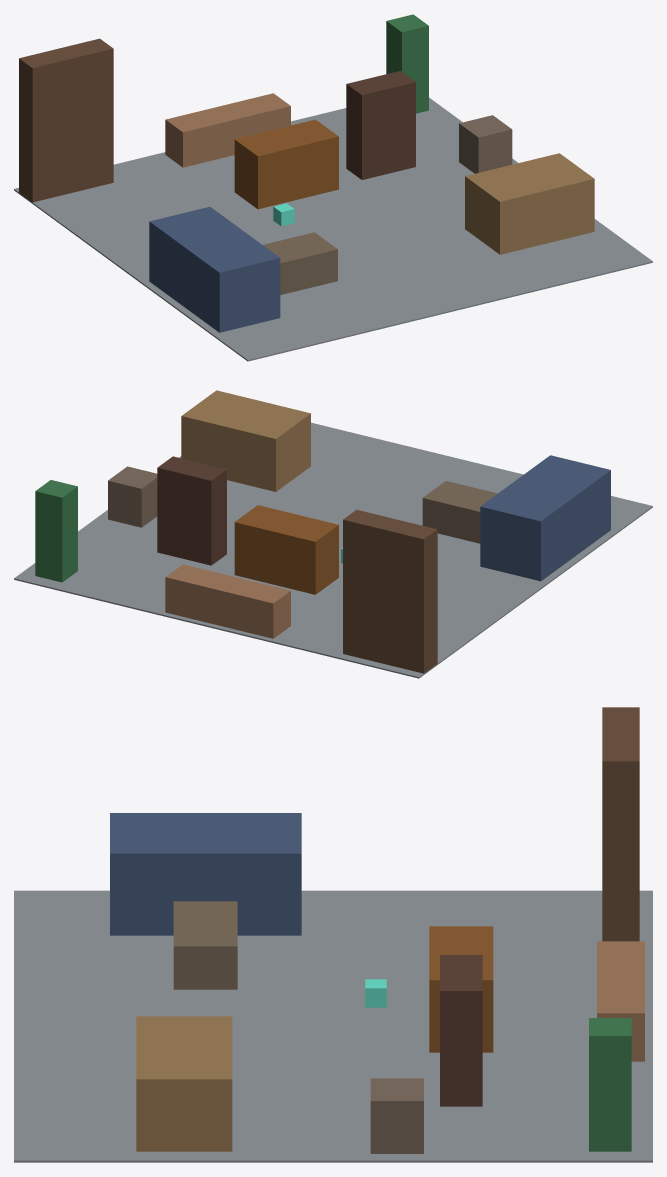
Rendered from room.gltf.
The picture shows the model from 3 angles, top to bottom: view 1: azimuth 30°, elevation 25°; view 2: azimuth 150°, elevation 25°; view 3: azimuth 270°, elevation 25°; orthographic projection. The views are drawn at different scales.
Parts seen in each view (by area): view 1: floor, bookshelf, sofa, dining_table, desk, cabinet, sideboard, coffee_table, plant, side_table; view 2: floor, bookshelf, sofa, dining_table, desk, cabinet, sideboard, plant, coffee_table, side_table; view 3: floor, sofa, dining_table, bookshelf, cabinet, coffee_table, plant, sideboard, desk, side_table.
Boxes of the visible parts, x1,y1,x2,y2 form: floor: (14, 97, 652, 361); bookshelf: (19, 38, 113, 202); sofa: (149, 206, 280, 332); dining_table: (465, 153, 594, 254); desk: (234, 119, 338, 209); cabinet: (346, 71, 415, 179); sideboard: (165, 93, 290, 167); coffee_table: (263, 232, 337, 294); plant: (386, 14, 428, 113); side_table: (459, 115, 512, 173); floor: (14, 422, 652, 678); bookshelf: (343, 509, 437, 673); sofa: (480, 455, 610, 581); dining_table: (181, 390, 310, 491); desk: (234, 505, 338, 594); cabinet: (157, 456, 226, 565); sideboard: (165, 564, 290, 638); plant: (35, 480, 77, 582); coffee_table: (422, 481, 497, 543); side_table: (108, 466, 157, 527); floor: (14, 890, 652, 1162); sofa: (110, 813, 301, 935); dining_table: (136, 1016, 232, 1151); bookshelf: (602, 707, 639, 941); cabinet: (440, 955, 482, 1106); coffee_table: (173, 901, 237, 989); plant: (589, 1018, 631, 1151); sideboard: (597, 941, 644, 1061); desk: (429, 926, 493, 1052); side_table: (370, 1078, 423, 1153).
Size of the model in its own units: 6 by 1.92 by 6.
